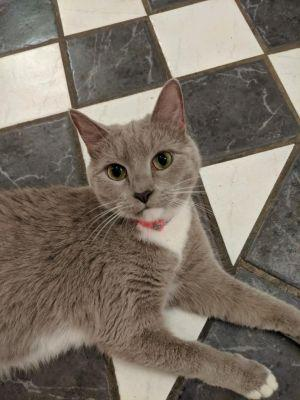rblue: (66, 78, 207, 232)
